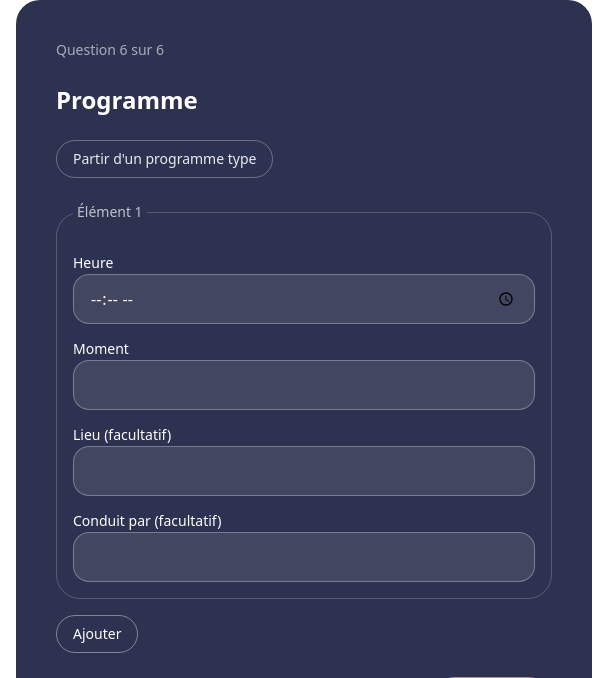
QuestionScreen : programme type › disparaît dès qu’un moment est saisi
Type "Messe" into the field labelled "Moment" at (304, 385), box top-left (73, 360), bottom-right (535, 410)
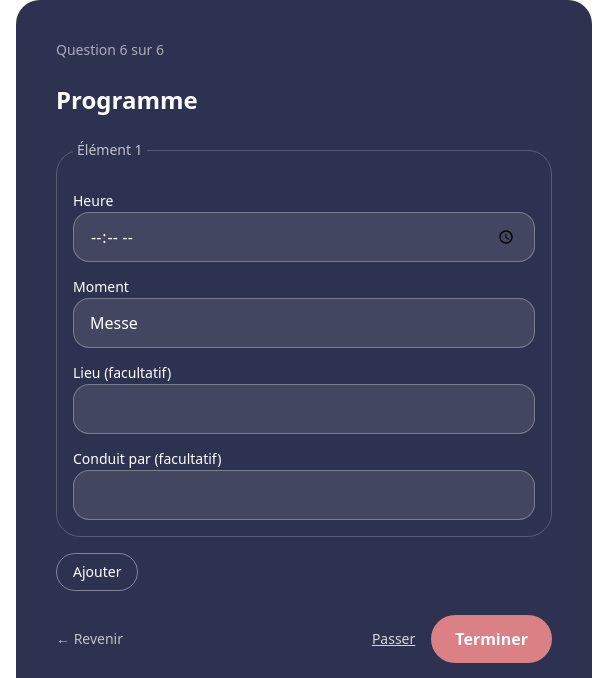
Check: the button "Partir d'un programme type" is gone
